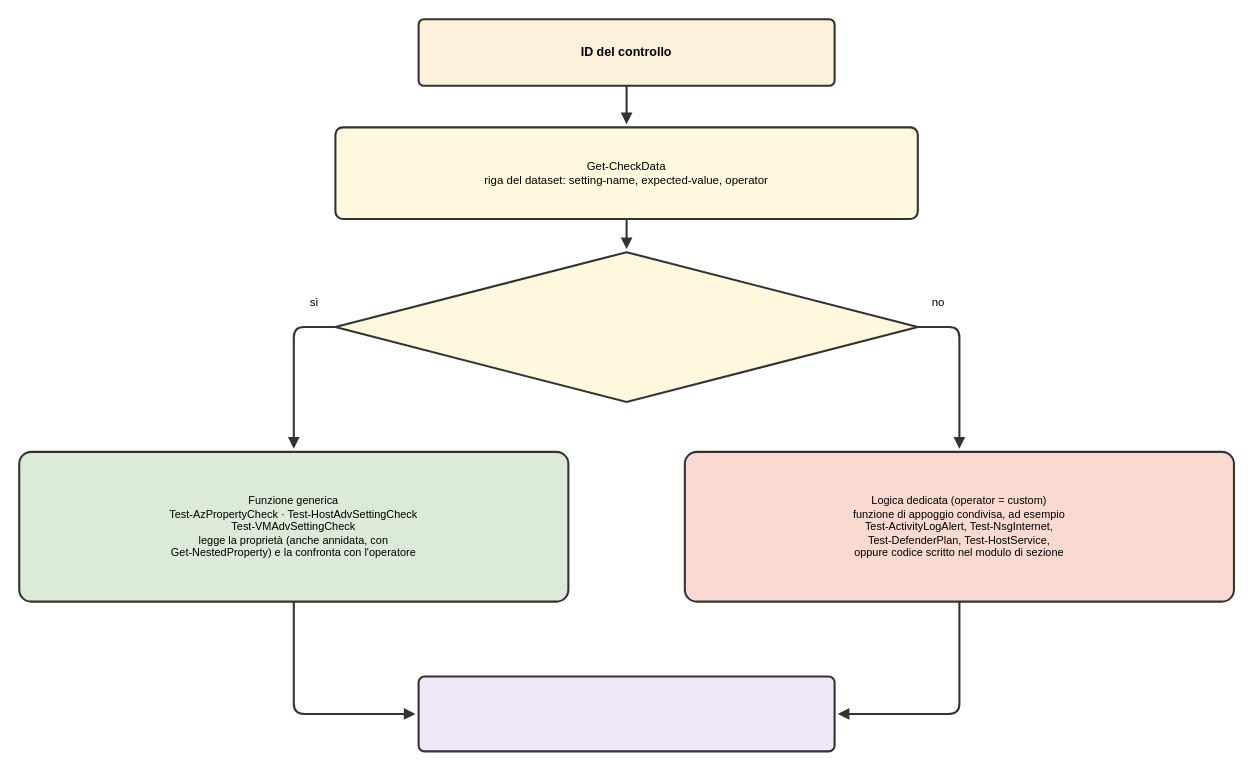
The diagram is 1252 pixels wide and 770 high, and some of its shapes have lost their labels. Here are the shapes that lost their labels. From the top down, the centre of each, then its label:
(x=626, y=326): operator è eq, le o notempty?
(x=626, y=713): Set-CheckResult
